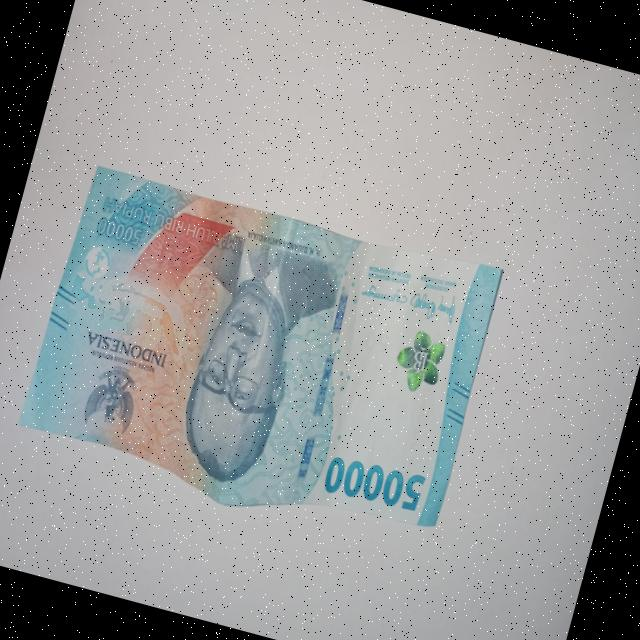50K: (5, 153, 528, 571)
